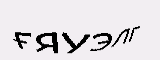А: (89, 19, 108, 41)
С: (76, 19, 93, 42)
У: (64, 19, 78, 44)
Ш: (41, 21, 66, 46)
Э: (106, 20, 121, 41)
